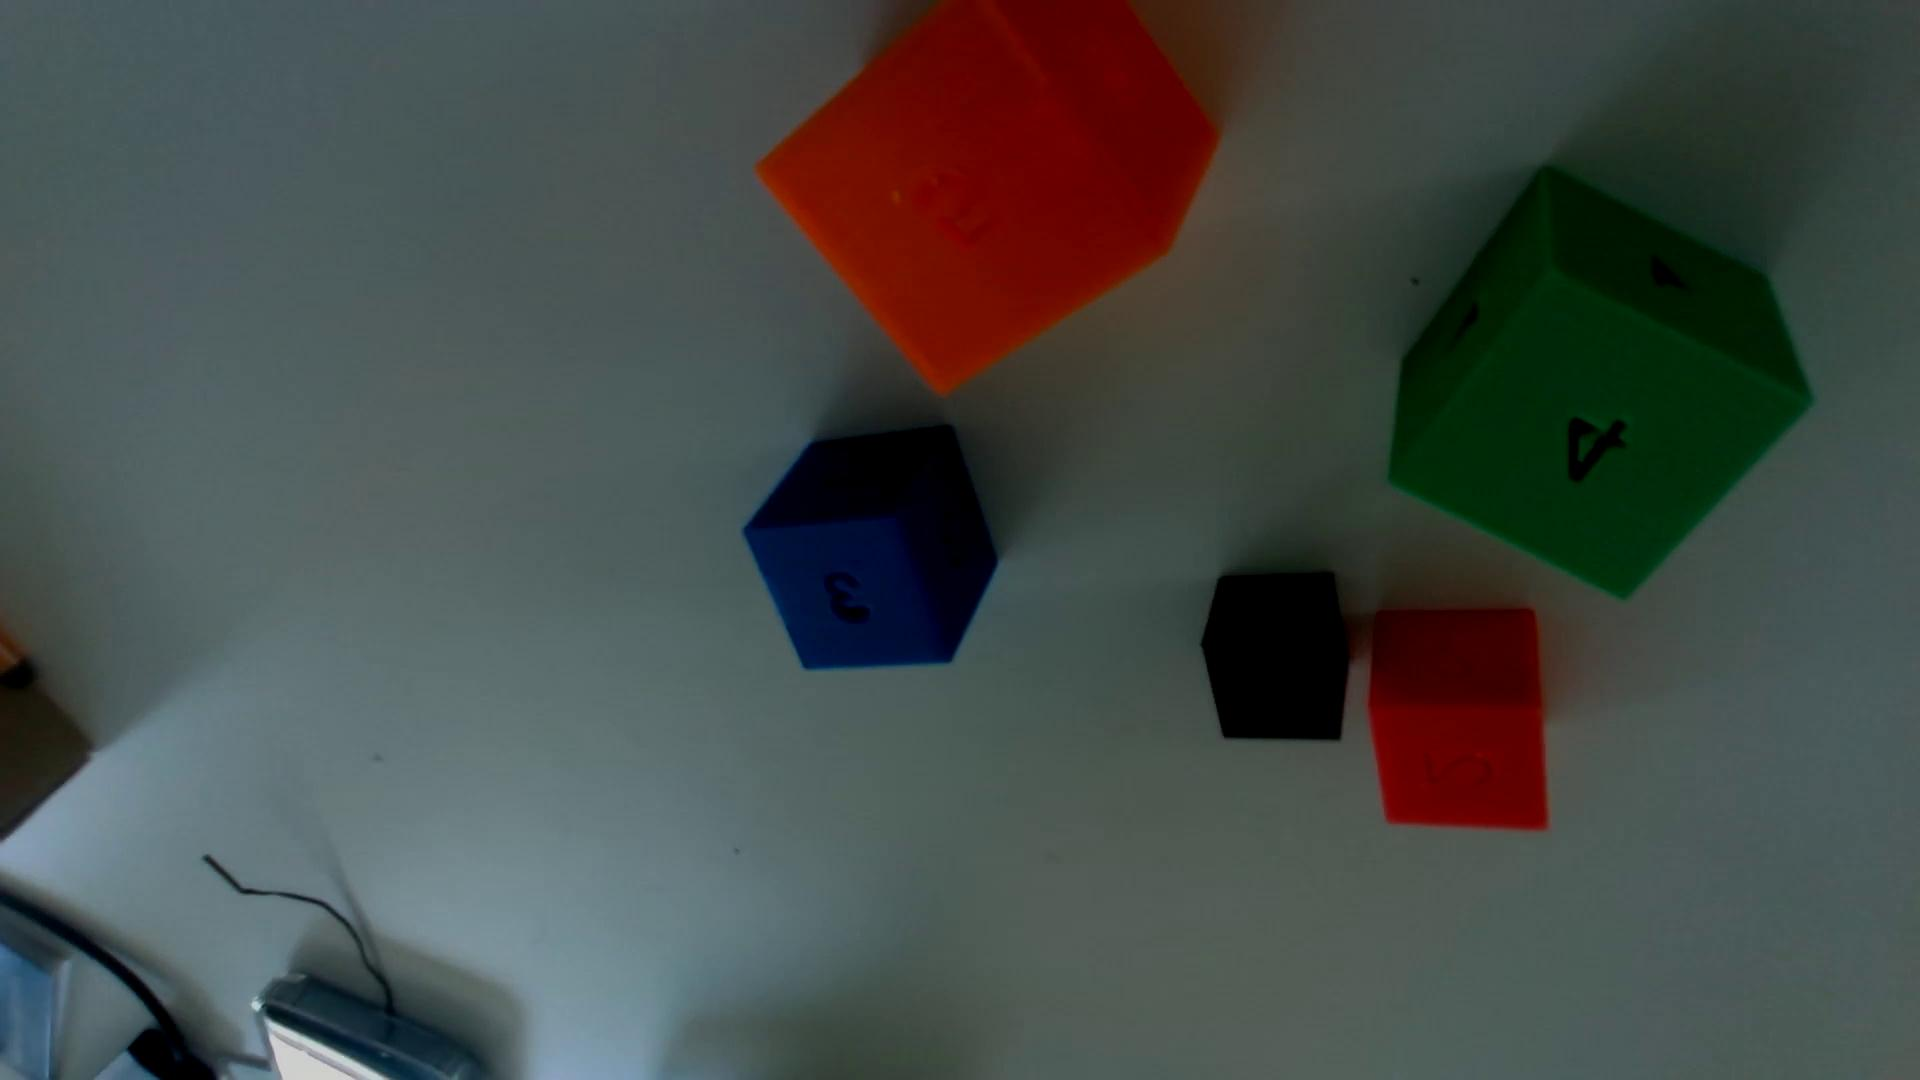black: (1203, 572, 1348, 740)
blue: (744, 425, 997, 669)
green: (1389, 167, 1811, 597)
orange: (757, 0, 1217, 390)
red: (1367, 607, 1549, 829)
